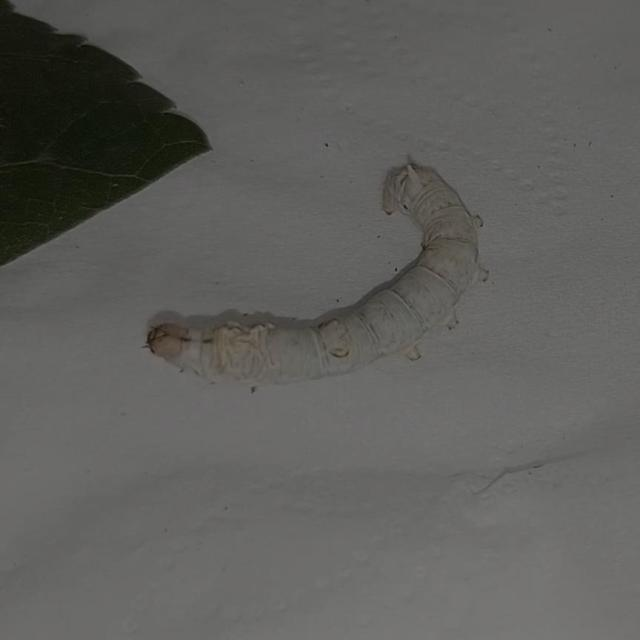Healthy: (89, 141, 526, 425)
